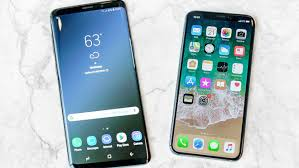iphone: (168, 8, 260, 165)
iphone10: (166, 6, 258, 163)
